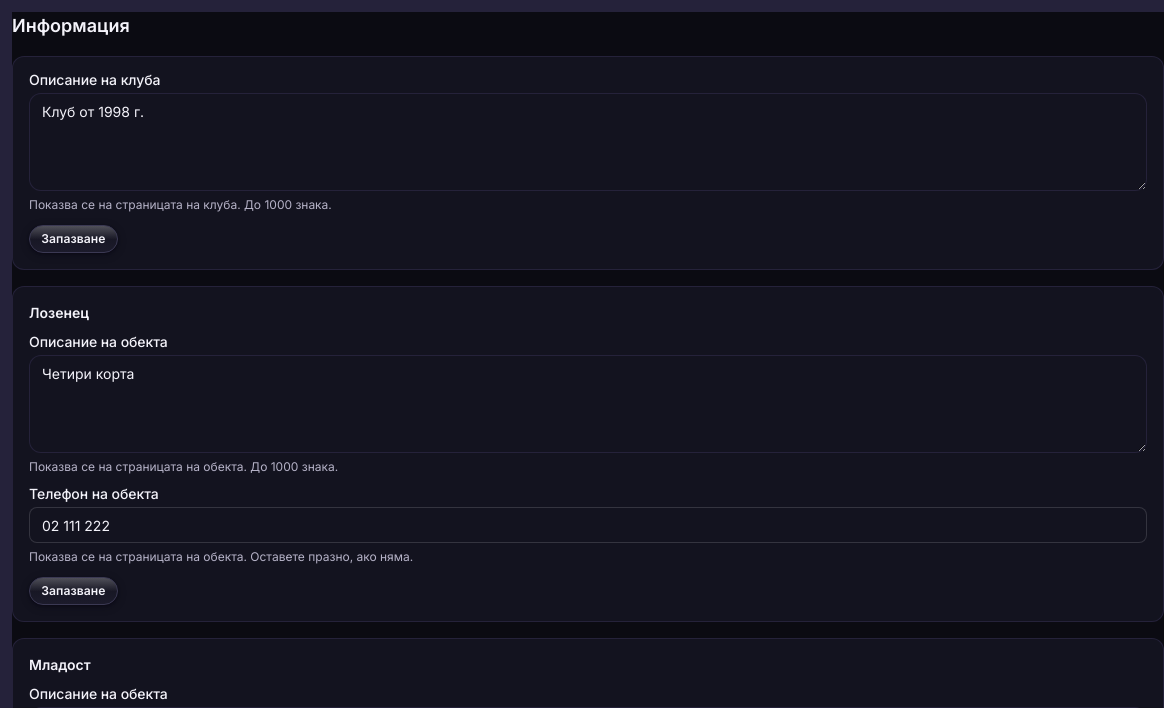
Test case: the club’s «Информация» › a refusal (TOO_LONG) is said in words, beside the form it belongs to
Click the button "Запазване" below "Лозенец". click: (73, 591)
box: x1=29 y1=577 x2=118 y2=605
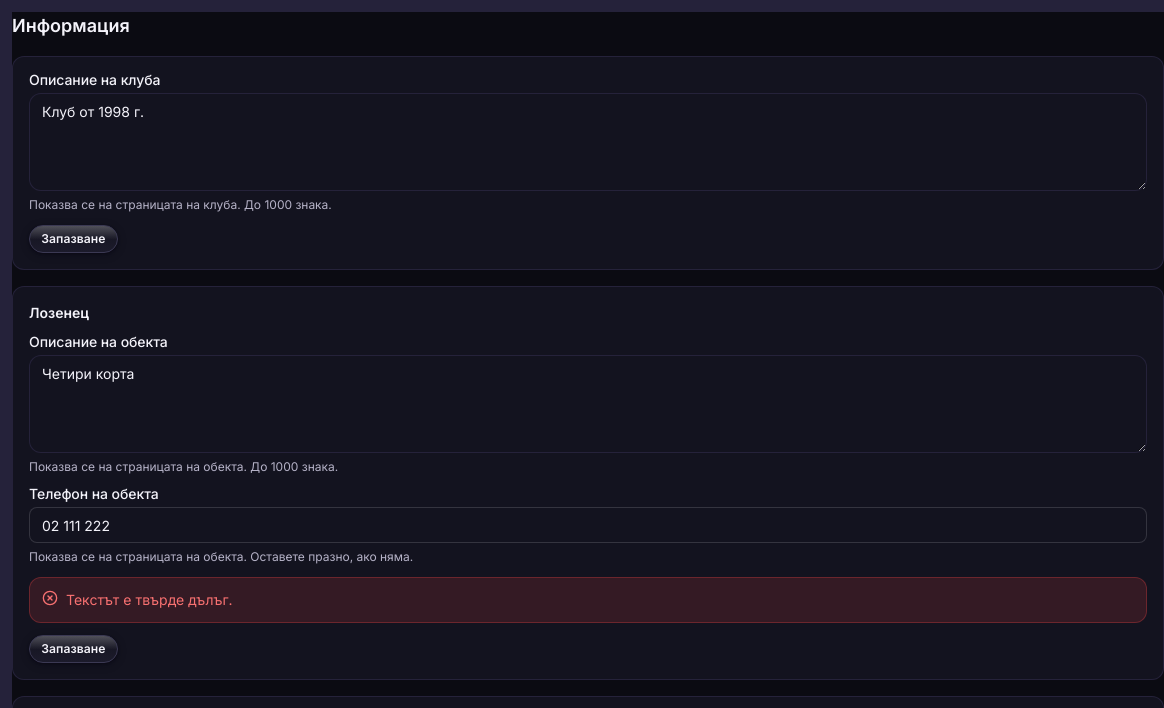
Check: the text "Текстът е твърде дълъг." is shown, box x1=66 y1=591 x2=233 y2=608
